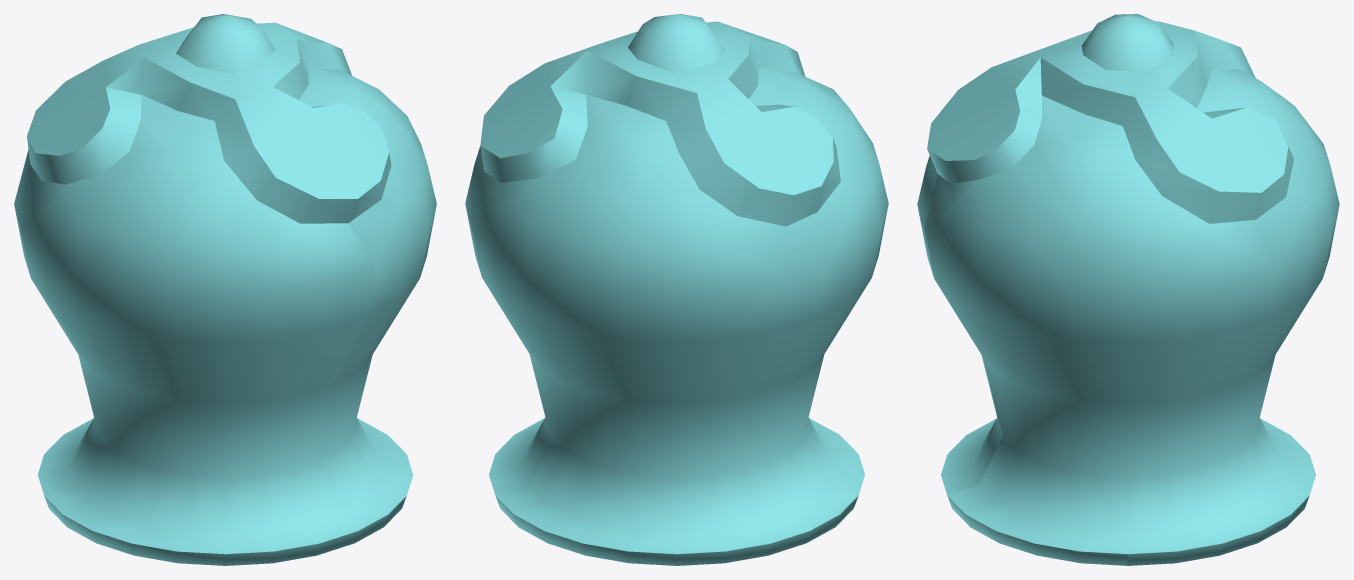
File: SM_Octopus_Planter_Head.fbx
The picture shows the model from 3 angles, left to right: view 1: azimuth 30°, elevation 25°; view 2: azimuth 150°, elevation 25°; view 3: azimuth 270°, elevation 25°; orthographic projection.
Parts seen in each view (by area): view 1: SM_Octopus_Planter_Head; view 2: SM_Octopus_Planter_Head; view 3: SM_Octopus_Planter_Head.
Part boxes in pixels (x1,y1,x2,y2): SM_Octopus_Planter_Head: (14, 14, 436, 565); SM_Octopus_Planter_Head: (465, 14, 888, 565); SM_Octopus_Planter_Head: (917, 14, 1339, 565).
Size of the model in its own units: 39.23 by 49.08 by 39.23.
